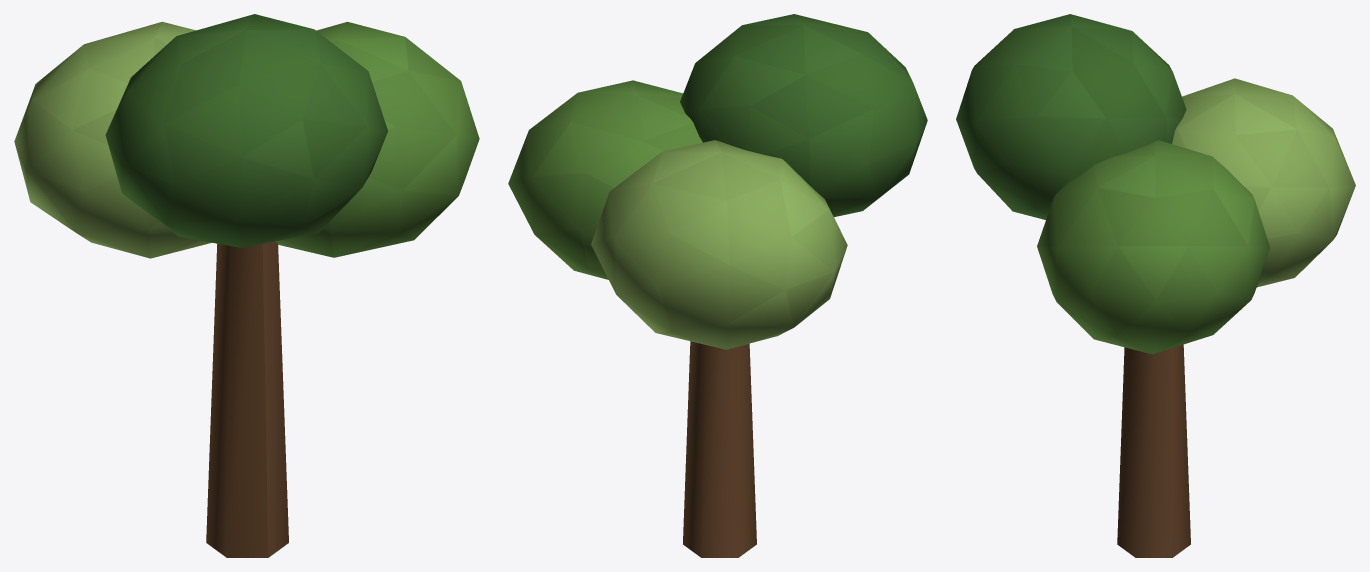
Rendered from crop-lime-young.glb.
3 renders of one model, left to right at view 1: azimuth 30°, elevation 25°; view 2: azimuth 150°, elevation 25°; view 3: azimuth 270°, elevation 25°, orthographic. The views are drawn at different scales.
Parts seen in each view (by area): view 1: crop-lime-young-kit; view 2: crop-lime-young-kit; view 3: crop-lime-young-kit.
Part boxes in pixels (left/top/right/bottom): crop-lime-young-kit: left=14, top=14, right=479, bottom=557; crop-lime-young-kit: left=508, top=14, right=927, bottom=557; crop-lime-young-kit: left=956, top=14, right=1355, bottom=557.
Size of the model in its own units: 0.548 by 0.743 by 0.5417.
